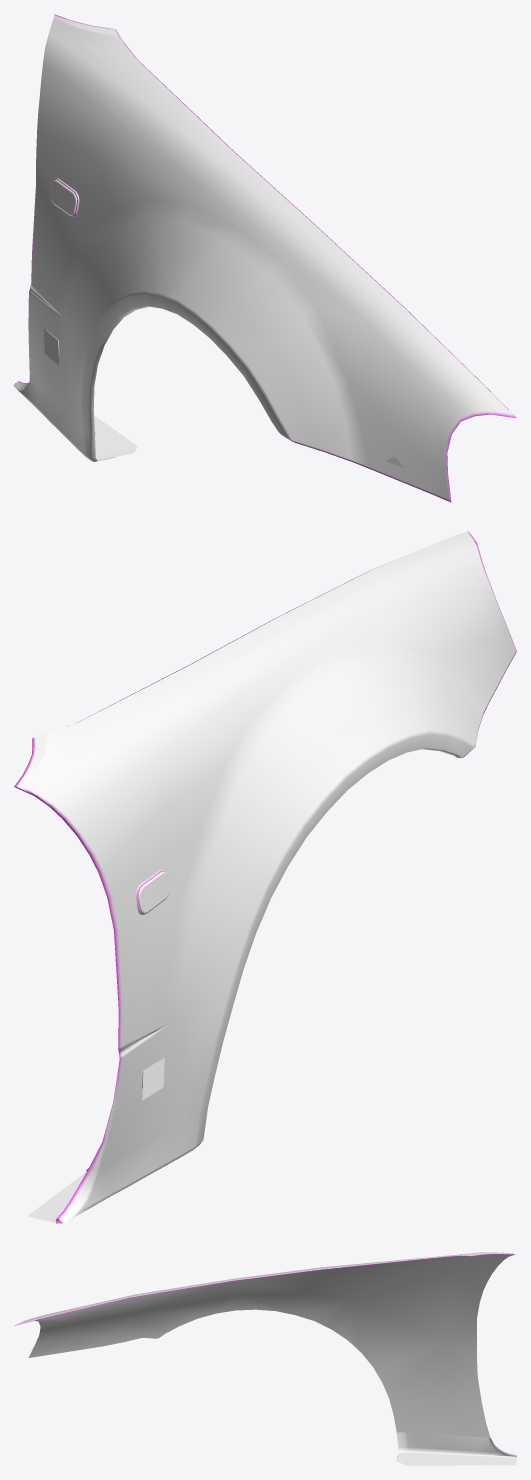
Rendered from Car_Nissan_SkylineGTRVspecR34_1999_FenderFR_SetB_AltA.fbx.
3 views of the same model, one above another, from view 1: azimuth 30°, elevation 25°; view 2: azimuth 150°, elevation 25°; view 3: azimuth 270°, elevation 25° (orthographic). The views are drawn at different scales.
Visible parts, largest first — view 1: FenderFR 6; view 2: FenderFR 6; view 3: FenderFR 6.
Boxes of the visible parts, bbox=[...] form: FenderFR 6: bbox=[14, 14, 516, 502]; FenderFR 6: bbox=[14, 531, 516, 1223]; FenderFR 6: bbox=[15, 1252, 516, 1465].
Bounding box in the file's own units: 0.2093 × 0.6198 × 1.29.
